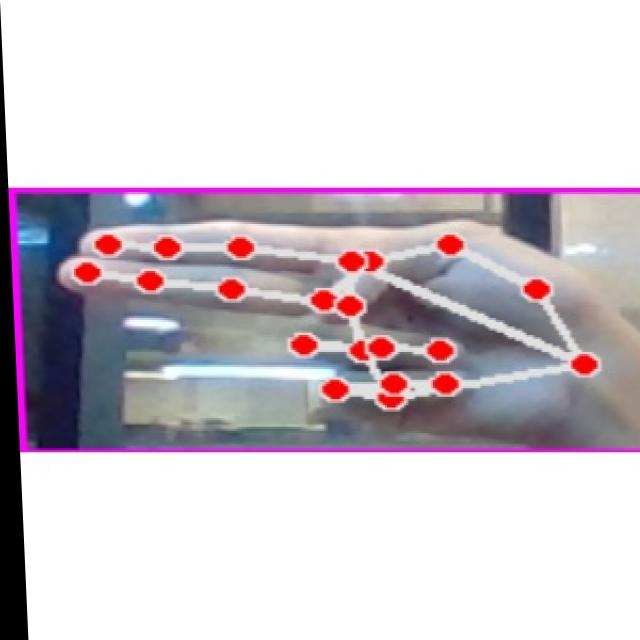H: (36, 204, 627, 440)
